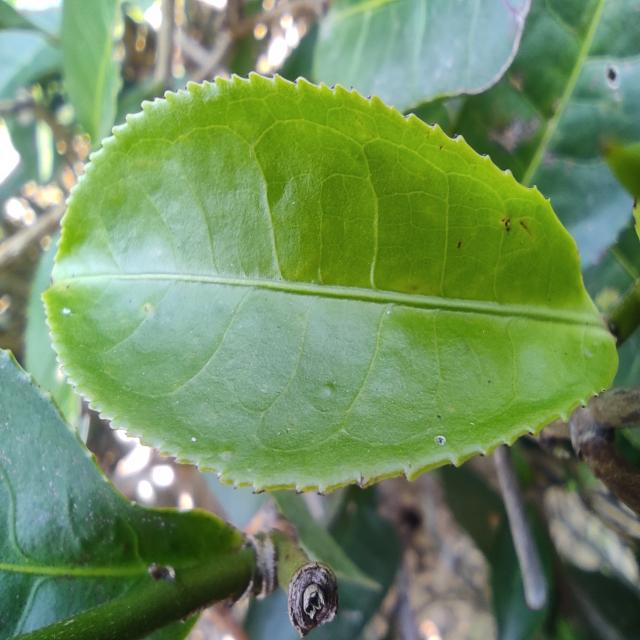Category C(4-7 days): (32, 65, 622, 511)
